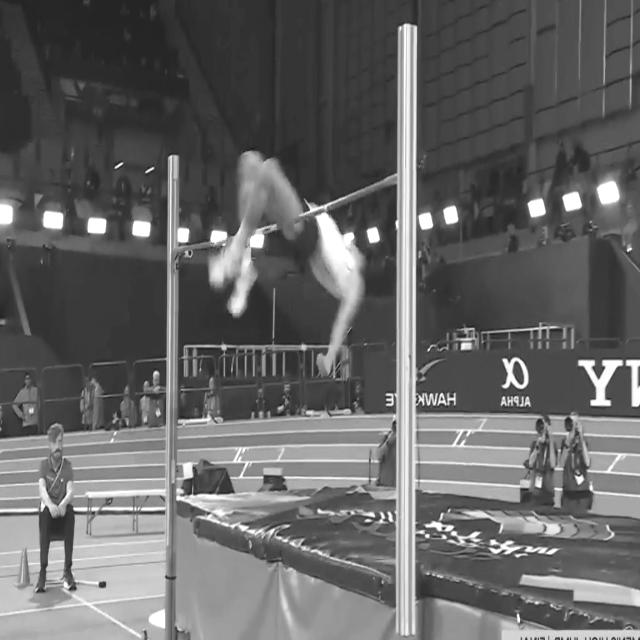jump: (210, 147, 374, 376)
